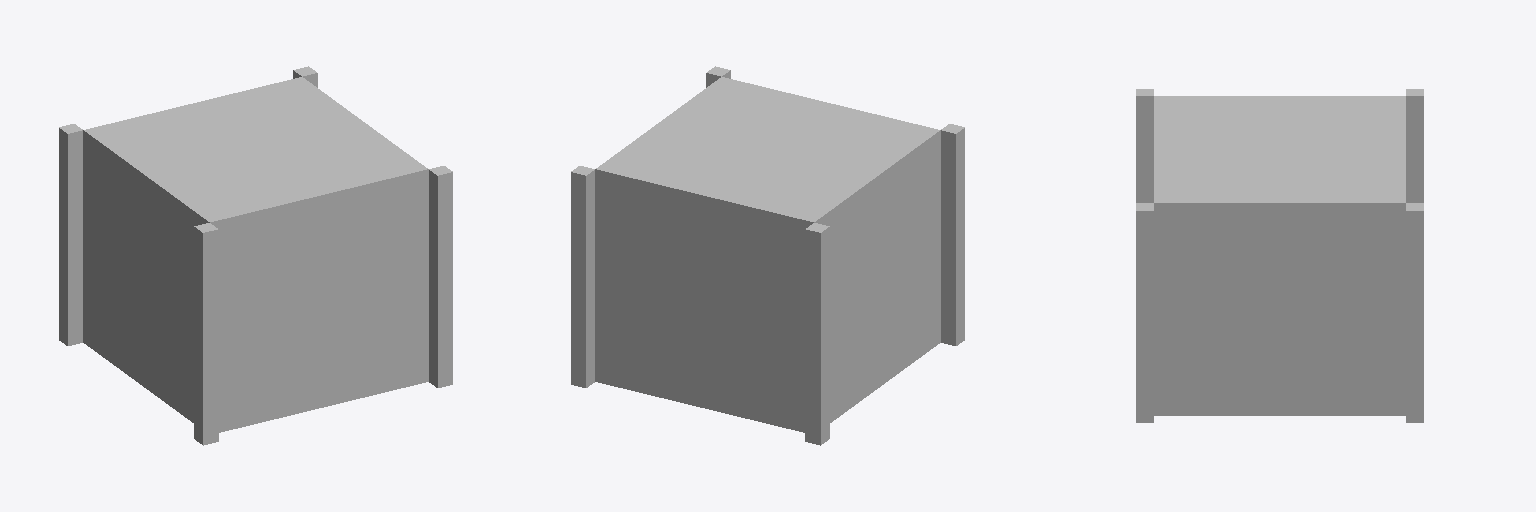
The model's file is militarychest.obj.
The picture shows the model from 3 angles: view 1: azimuth 30°, elevation 25°; view 2: azimuth 150°, elevation 25°; view 3: azimuth 270°, elevation 25°; orthographic projection.
Parts seen in each view (by area): view 1: cube; view 2: cube; view 3: cube.
Boxes of the visible parts, x1=… form: cube: x1=59, y1=66, x2=452, y2=445; cube: x1=571, y1=66, x2=964, y2=445; cube: x1=1136, y1=89, x2=1423, y2=422.
Bounding box in the file's own units: 1 × 0.8125 × 1.